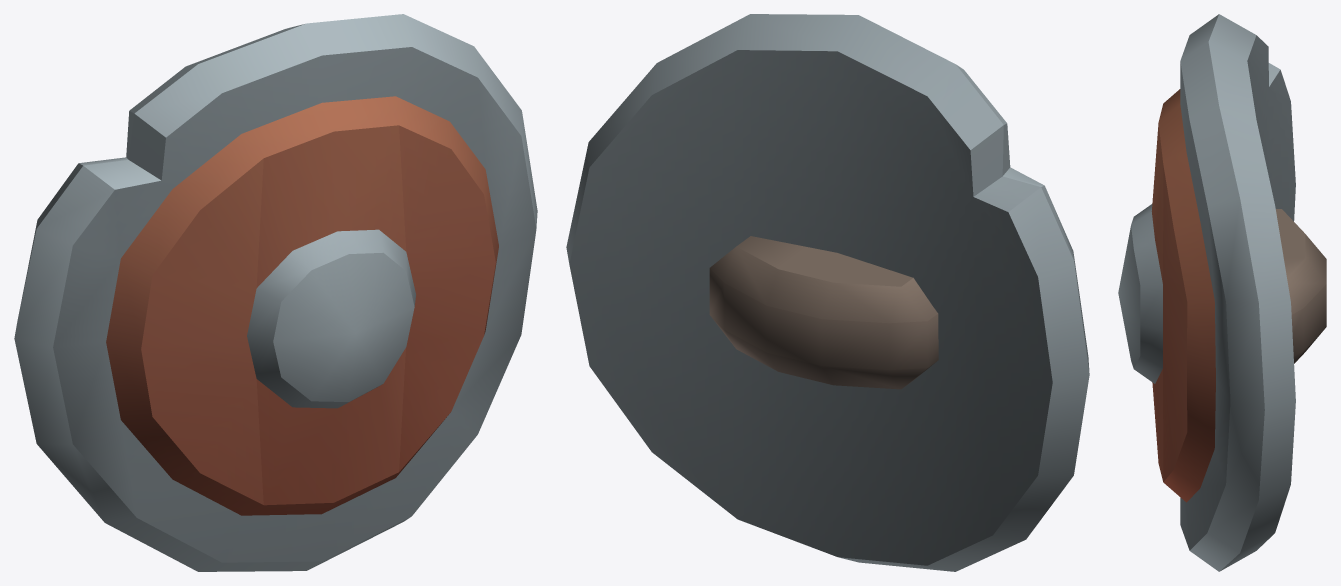
File: shield_round.glb
3 renders of one model, left to right at view 1: azimuth 30°, elevation 25°; view 2: azimuth 150°, elevation 25°; view 3: azimuth 270°, elevation 25°, orthographic. The views are drawn at different scales.
Bounding box in the file's own units: 0.8826 × 0.8826 × 0.332.
Materials: 1 (1 with a texture image).
